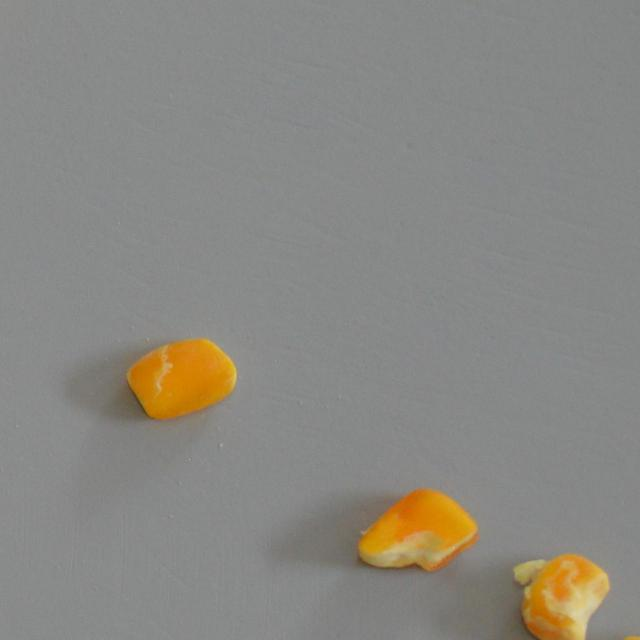dañado: (352, 484, 482, 578), (122, 329, 240, 423)
pelicula: (510, 540, 610, 640)
